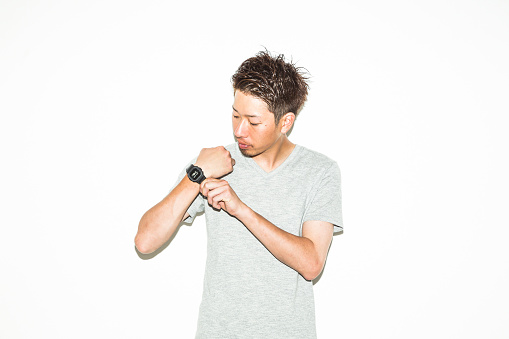em pe: (125, 48, 332, 339)
